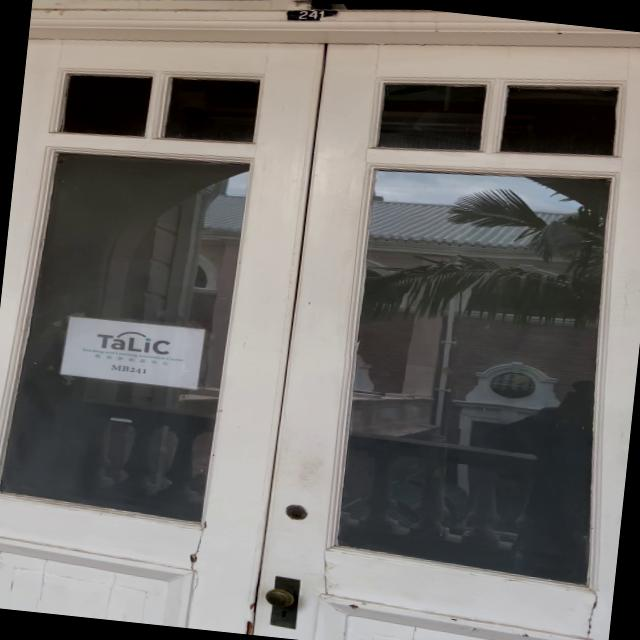room241: (283, 2, 338, 26)
